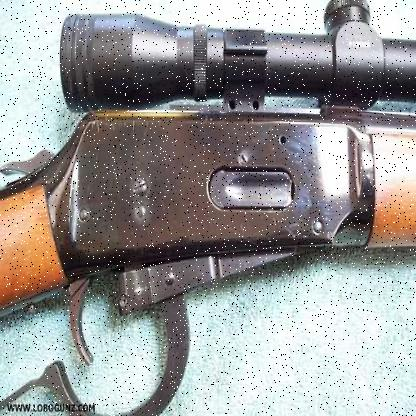rifle: (0, 0, 399, 373)
